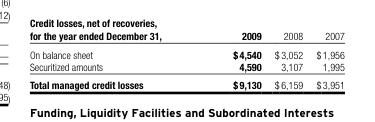table: (28, 28, 343, 90)
table column: (28, 28, 196, 90), (196, 28, 267, 90), (267, 28, 308, 90), (308, 28, 343, 90)
table column header: (28, 28, 343, 44)
table row: (28, 28, 343, 44), (28, 44, 343, 60), (28, 60, 343, 75), (28, 75, 343, 90)
